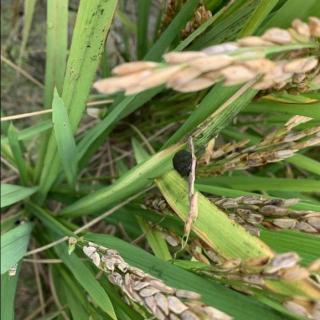Gosong-Palsu: (172, 148, 196, 179)
